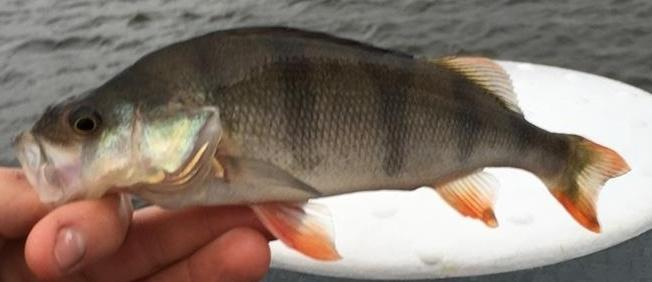Perch: (12, 26, 631, 260)
